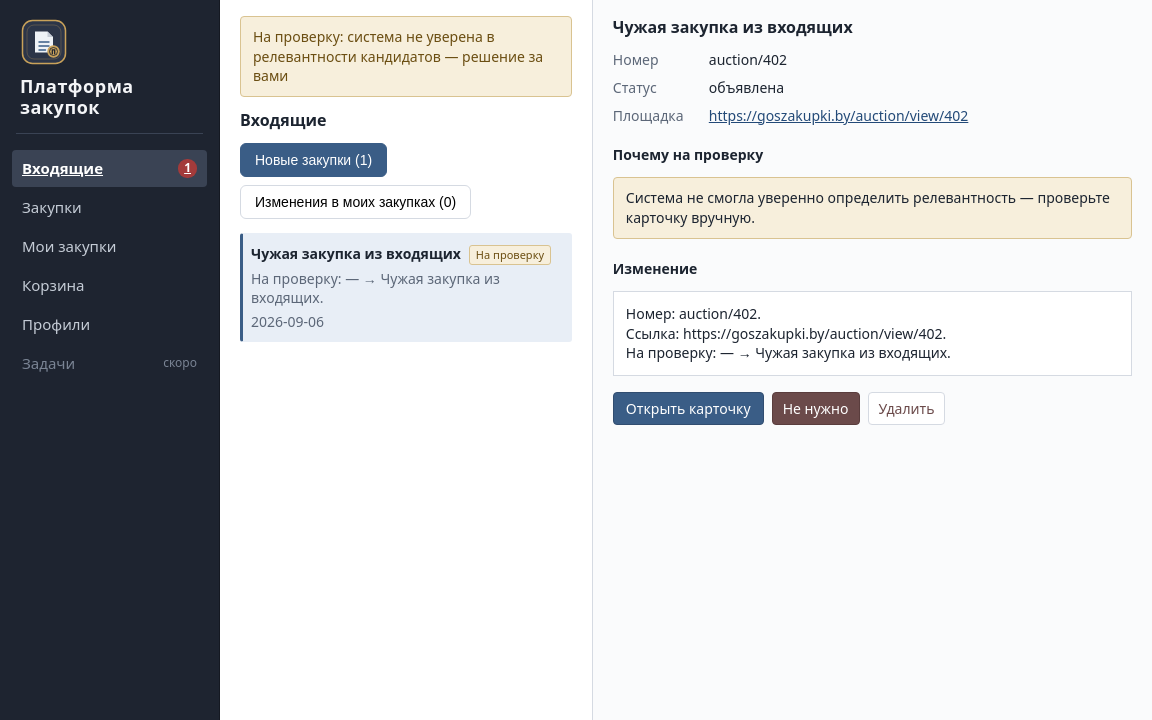
SpecialistApp search list › opening a foreign profile's inbox case does not claim it for the active profile
Click the button "Открыть карточку" at coordinates (688, 408), box [613, 392, 764, 425]
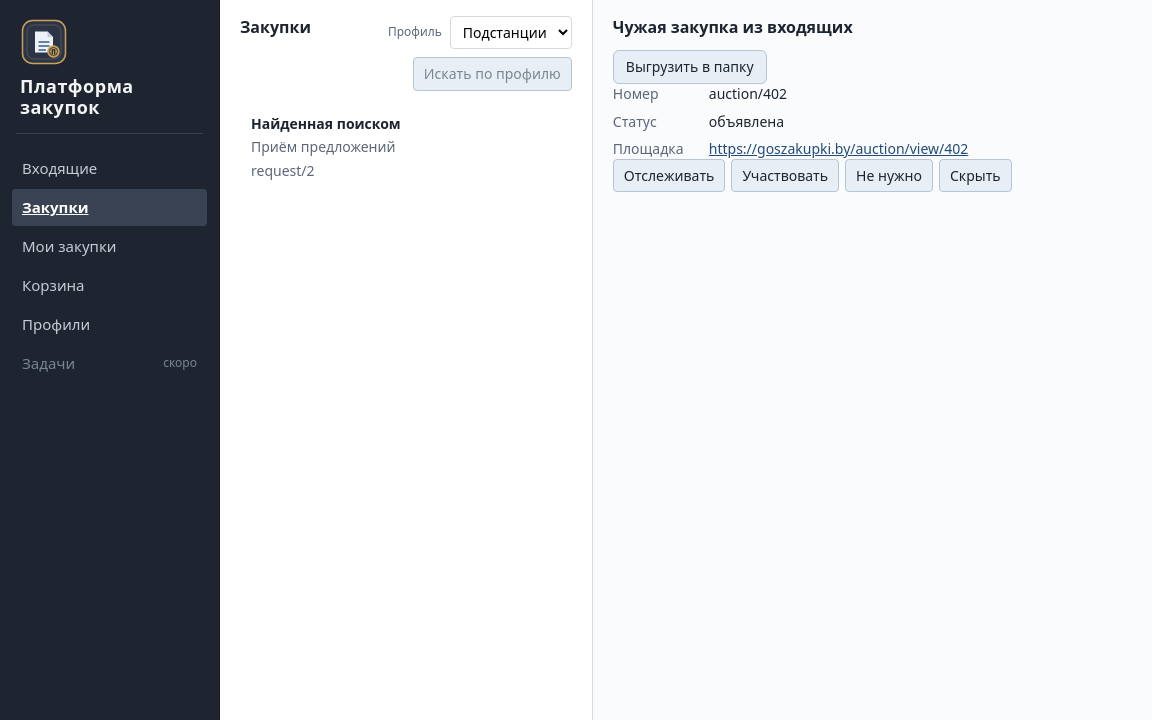
Expected: the heading "Чужая закупка из входящих" is shown, [613, 16, 853, 38]
Click the link "Закупки" at coordinates (110, 208), box [12, 189, 207, 226]
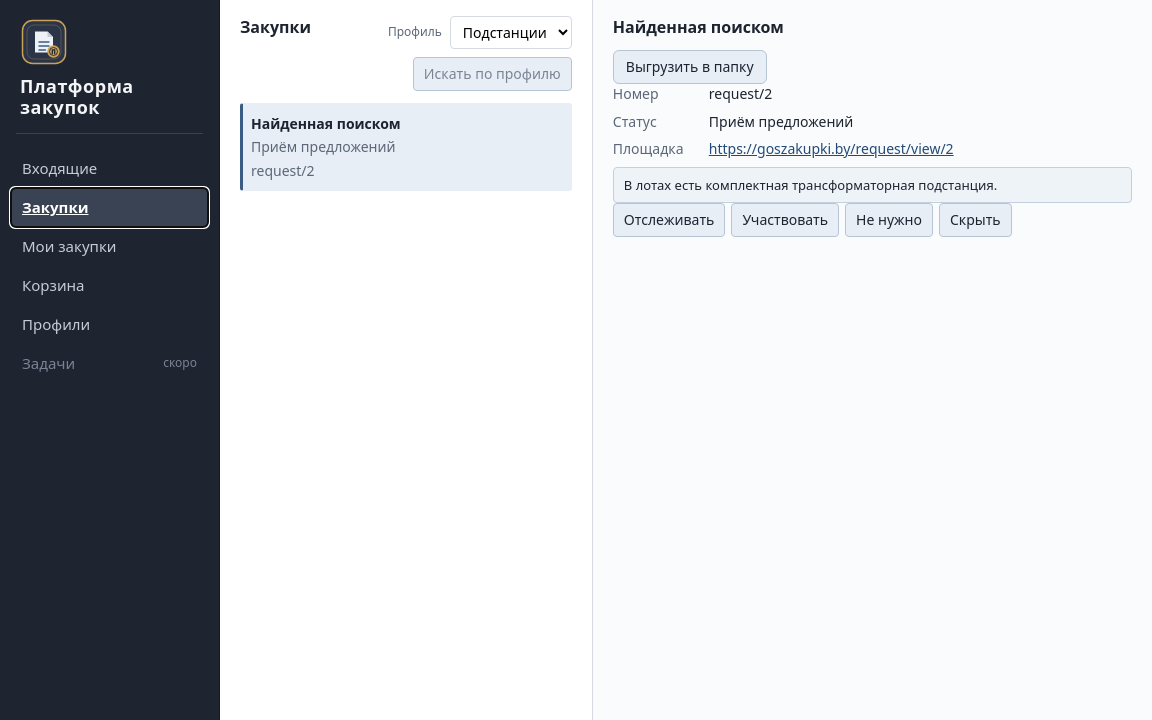
Expected: the button "Найденная поиском Приём предложений request/2" is shown, [240, 103, 572, 191]
Expected: the heading "Чужая закупка из входящих" is gone
